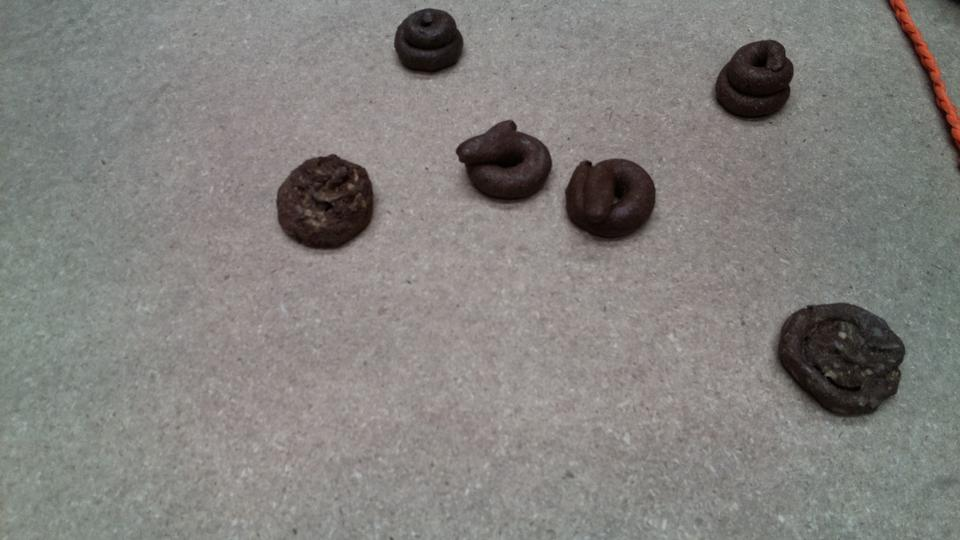poop: (772, 298, 909, 420), (273, 149, 379, 255), (453, 117, 557, 209), (558, 156, 659, 250), (711, 35, 798, 129), (388, 5, 465, 79)
rope: (886, 1, 959, 143)
